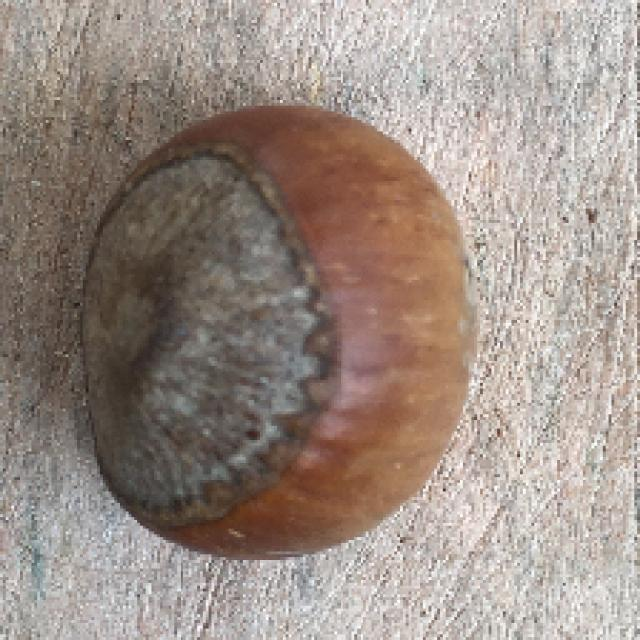DamagedHazelnut: (72, 104, 480, 565)
